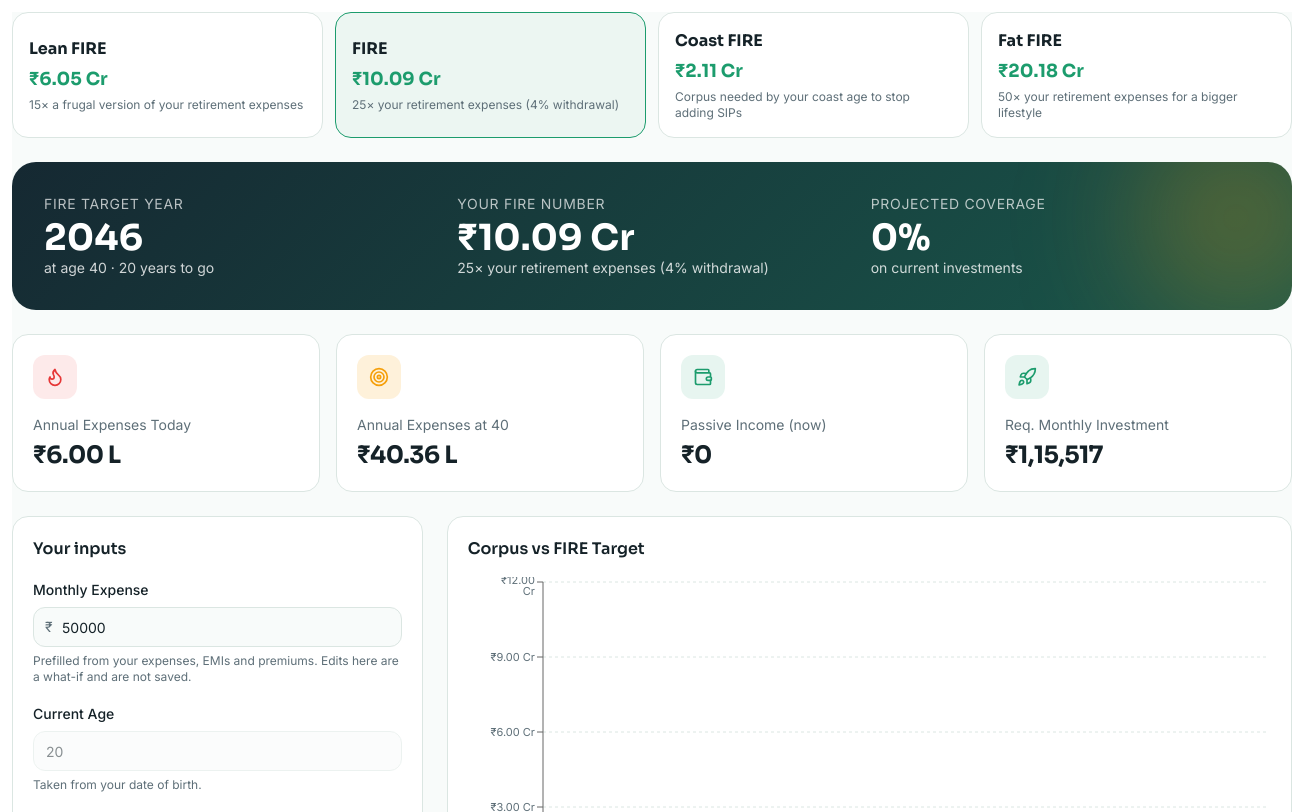
Test case: FreedomCalculator › switches the headline target when another variant is selected
Expected: the text "Your FIRE Number" is shown, [457, 195, 605, 212]
Click the button "Lean FIRE".
click(68, 48)  # box [12, 12, 323, 138]
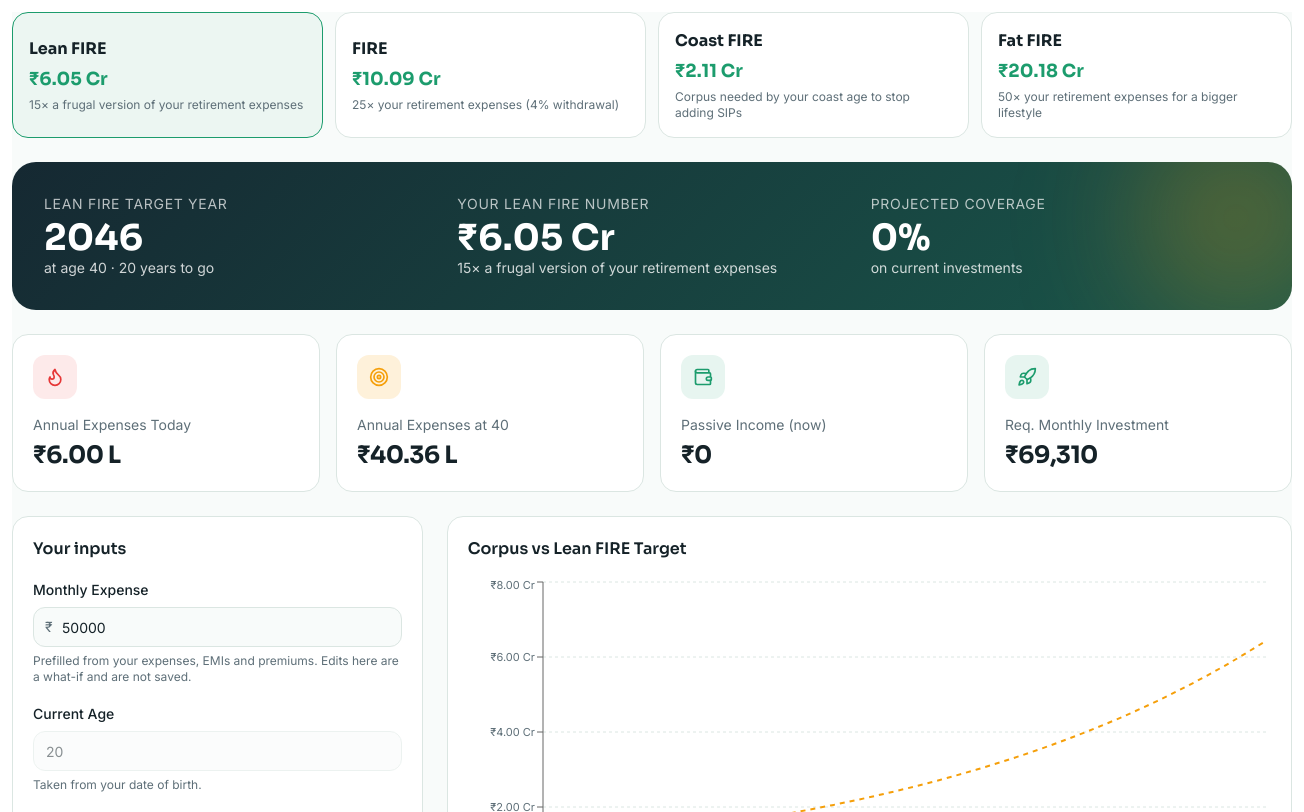
Expected: the text "Your Lean FIRE Number" is shown, [457, 195, 649, 212]
Expected: the heading "Corpus vs Lean FIRE Target" is shown, [468, 537, 687, 561]
